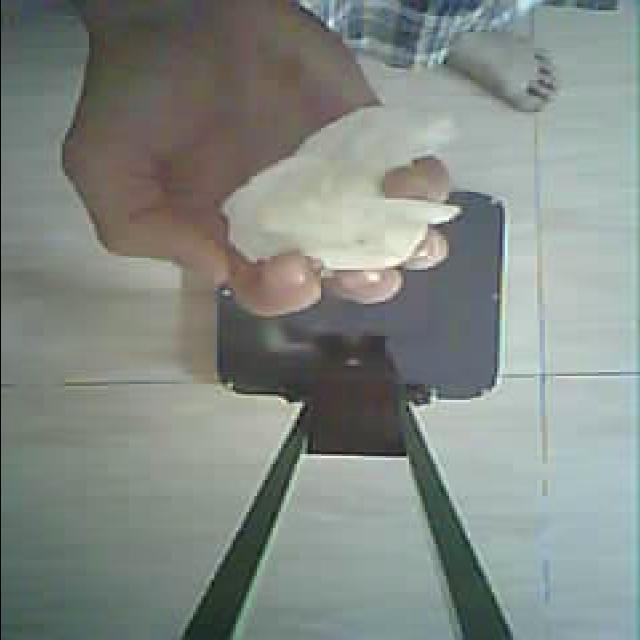Paper: (213, 84, 487, 322)
